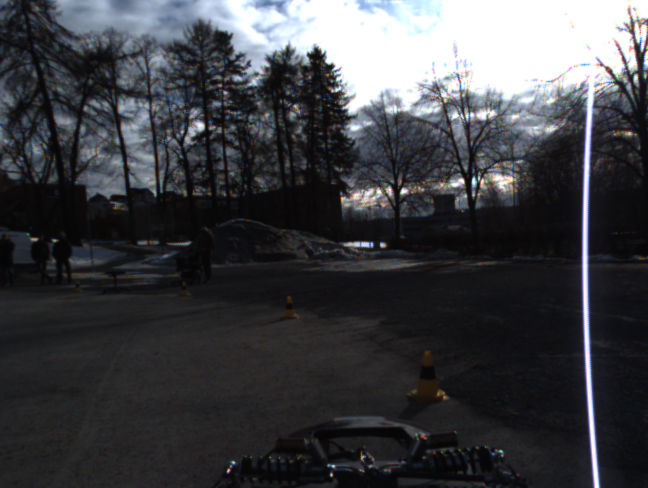cone-small-yellow: (406, 350, 450, 403), (280, 296, 300, 320), (177, 281, 192, 298), (73, 279, 84, 293)
